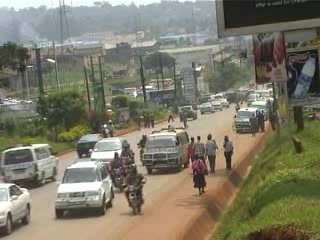Car: (53, 157, 117, 220), (0, 180, 33, 237), (86, 136, 136, 170), (75, 130, 108, 157), (175, 104, 198, 123), (198, 101, 214, 114), (210, 100, 221, 113), (218, 96, 229, 107)
Motorcycle: (117, 178, 148, 216), (111, 163, 127, 191), (121, 154, 137, 174), (135, 140, 146, 160), (235, 104, 240, 115)
